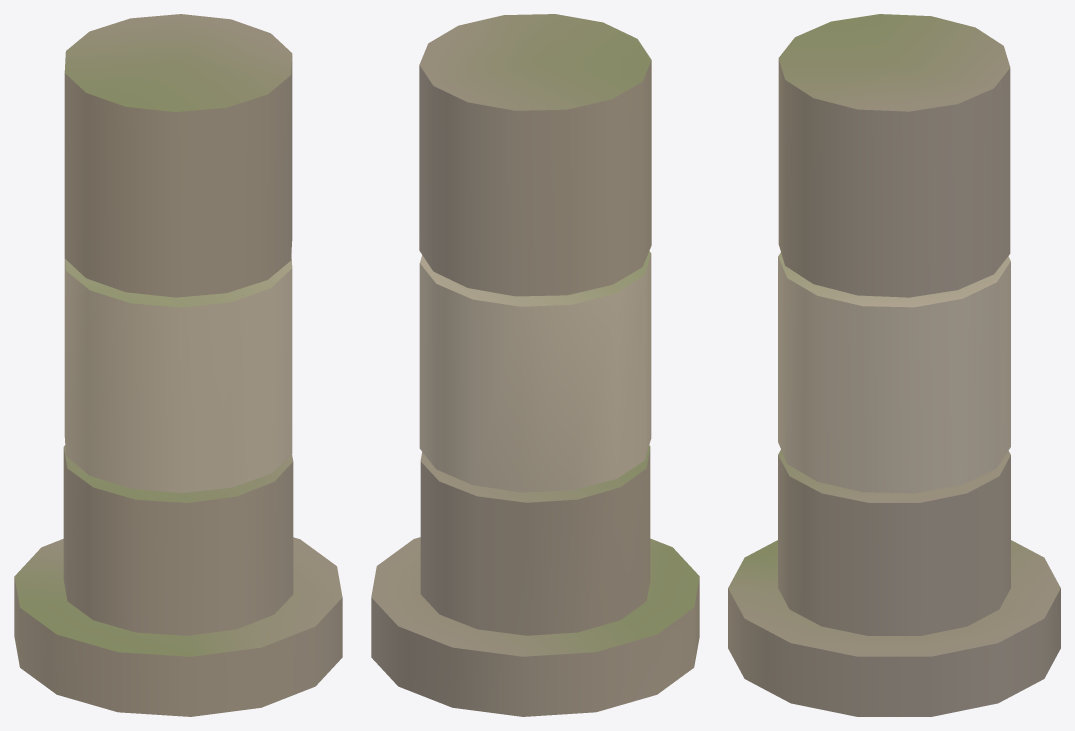
Rendered from pillar.glb.
The picture shows the model from 3 angles, left to right: view 1: azimuth 30°, elevation 25°; view 2: azimuth 150°, elevation 25°; view 3: azimuth 270°, elevation 25°; orthographic projection.
Parts seen in each view (by area): view 1: pillar; view 2: pillar; view 3: pillar.
Part boxes in pixels (bbox=[...]): pillar: bbox=[14, 14, 342, 716]; pillar: bbox=[371, 14, 699, 716]; pillar: bbox=[728, 14, 1060, 716].
Bounding box in the file's own units: 1.17 × 2.33 × 1.2.
